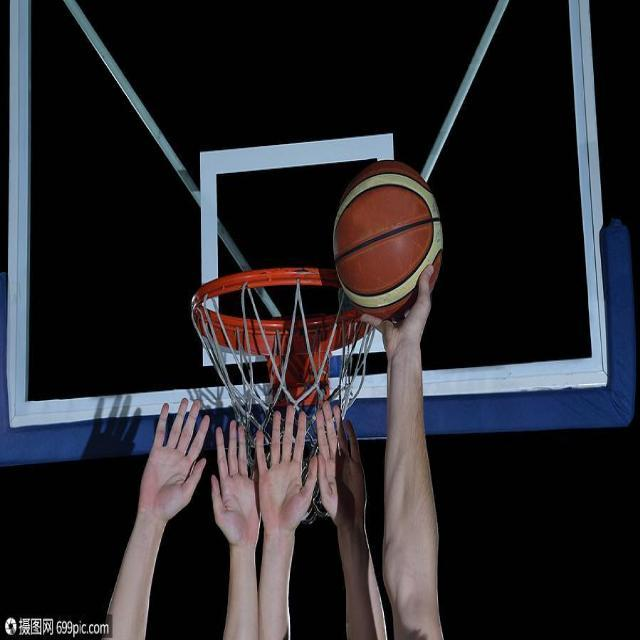rim: (332, 160, 444, 323)
